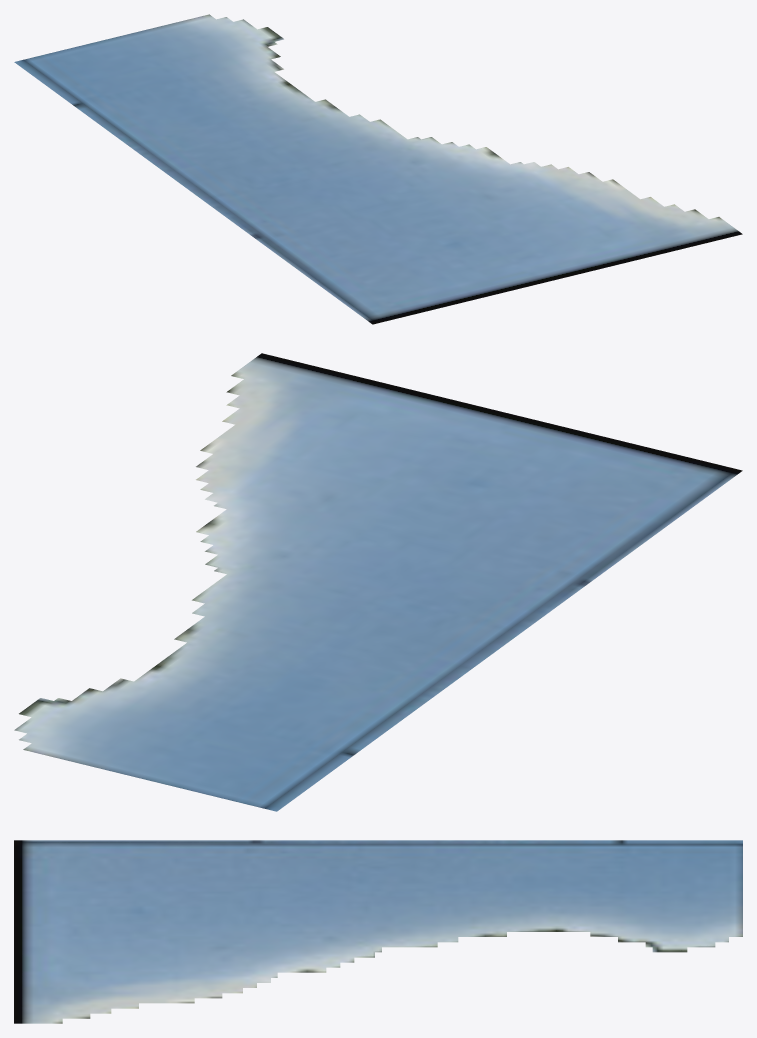
Rendered from west-south-africa-sea.gltf.
3 views of the same model, one above another, from view 1: azimuth 30°, elevation 25°; view 2: azimuth 150°, elevation 25°; view 3: azimuth 270°, elevation 25° (orthographic). The views are drawn at different scales.
Visible parts, largest first — view 1: Plane; view 2: Plane; view 3: Plane.
Boxes of the visible parts, bbox=[...] form: Plane: bbox=[14, 14, 742, 324]; Plane: bbox=[14, 353, 742, 811]; Plane: bbox=[14, 840, 742, 1023].
Bounding box in the file's own units: 0.3554 × 0 × 0.5963.
Materials: 1 (1 with a texture image).
